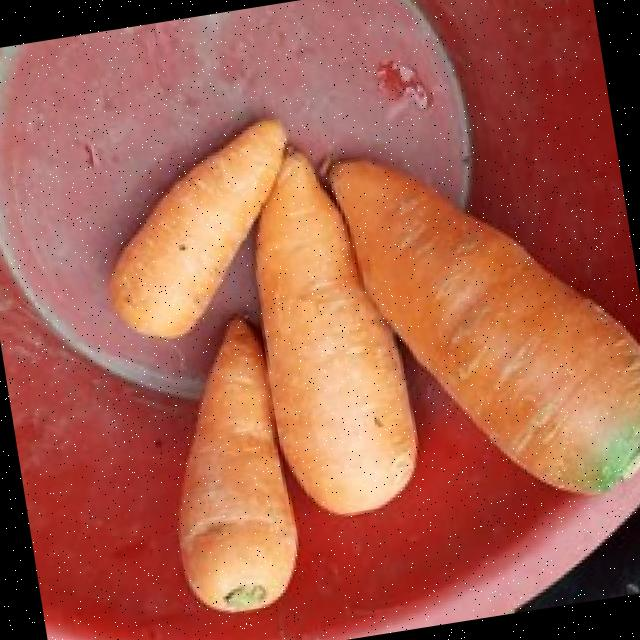carrot: (328, 161, 640, 493), (255, 151, 415, 514), (108, 119, 285, 336), (178, 318, 296, 611)
